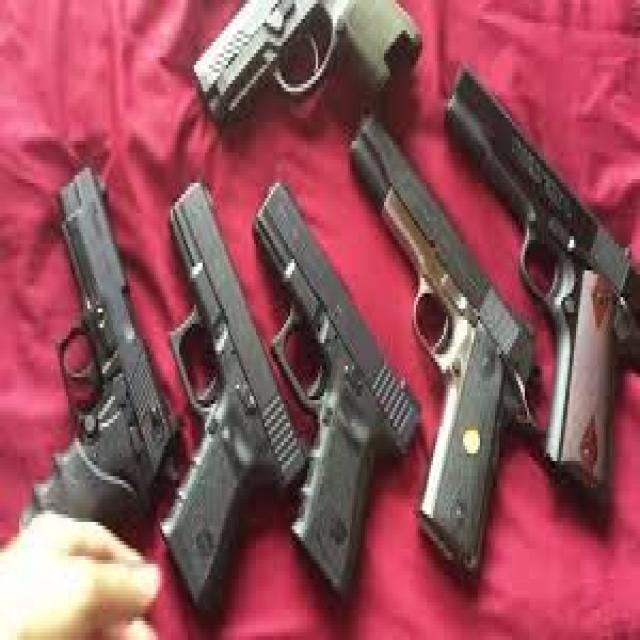semi automatic: (19, 42, 639, 625)
